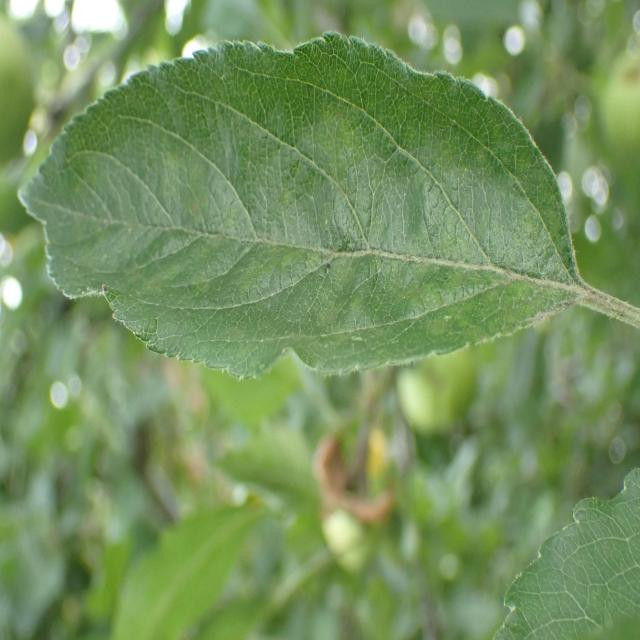scab: (59, 80, 578, 360)
